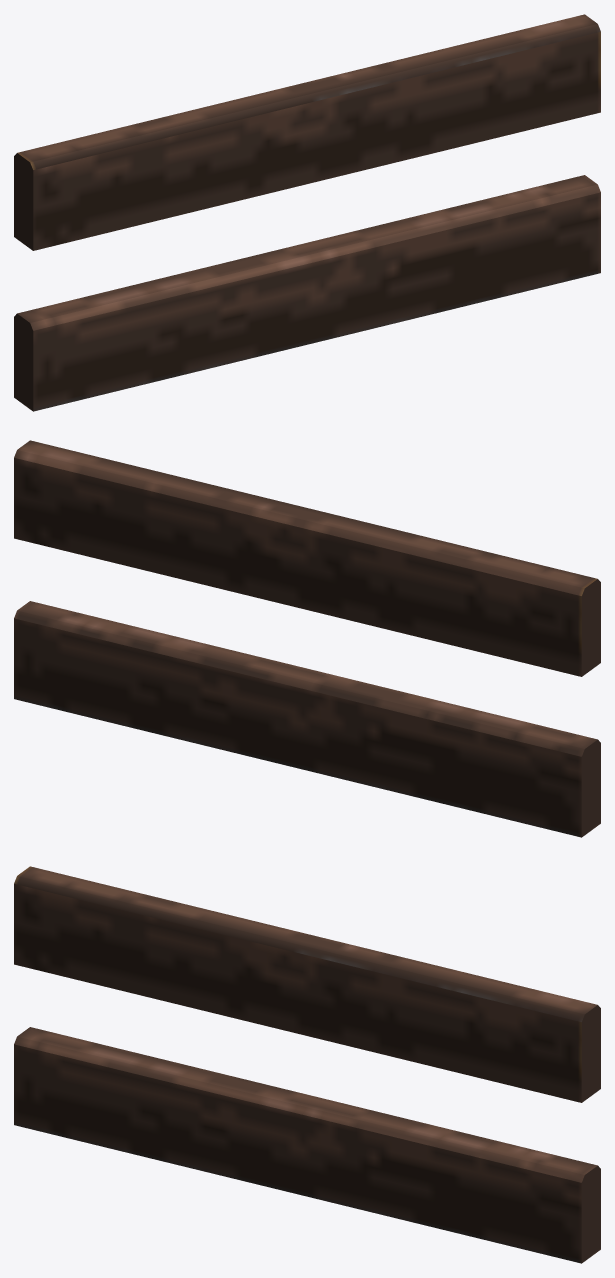
The model's file is fence_0421x00.obj.
3 renders of one model, top to bottom at view 1: azimuth 30°, elevation 25°; view 2: azimuth 150°, elevation 25°; view 3: azimuth 330°, elevation 25°, orthographic.
Visible parts, largest first — view 1: fenceboard_wood_long; view 2: fenceboard_wood_long; view 3: fenceboard_wood_long.
Part boxes in pixels (bbox=[...]): fenceboard_wood_long: bbox=[14, 14, 600, 411]; fenceboard_wood_long: bbox=[14, 440, 600, 837]; fenceboard_wood_long: bbox=[14, 866, 600, 1263].
Size of the model in its own units: 4.35 by 1.81 by 0.2551.
